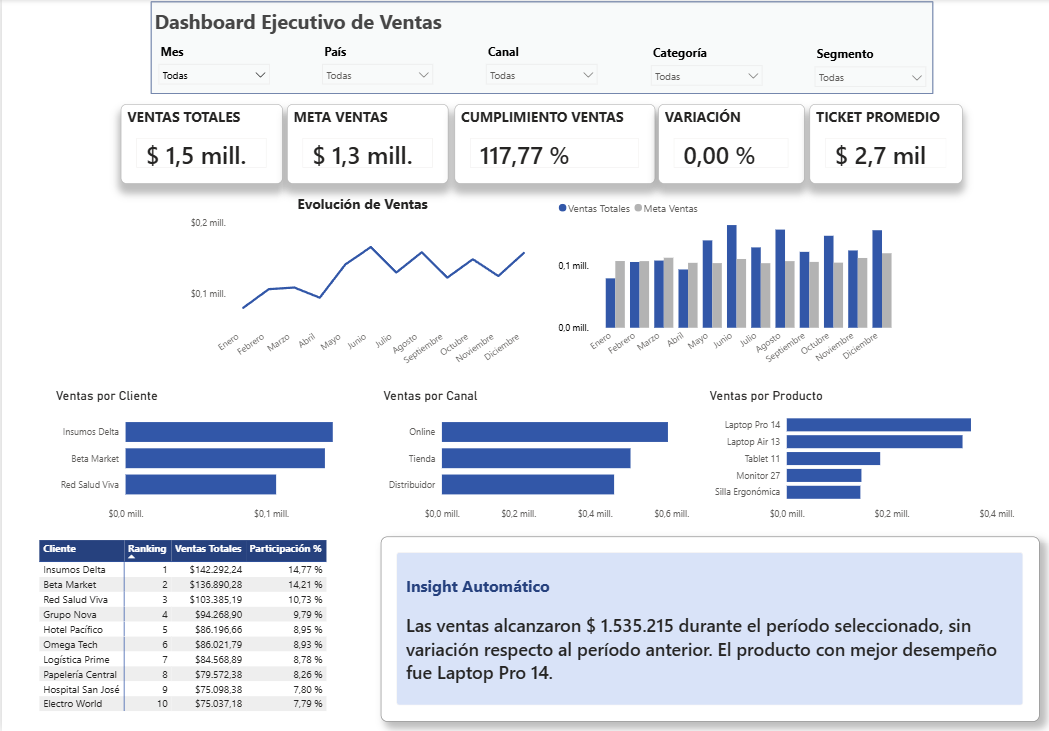

The dashboard page shown, as its layout file describes it:
{"tool":"powerbi","page":{"name":"Página 1","canvas":[1408,985],"ordinal":0},"visuals":[{"type":"shape","box":[199.8,4,1050.8,124.2],"z":0},{"type":"textbox","box":[199.8,6.7,1050.8,53.7],"z":1000},{"type":"slicer","fields":{"Values":["Tabla Calendario.NombreMesLargo"]},"box":[199.8,53,169.9,65.5],"z":1000,"group":"g1"},{"type":"group","id":"g1","title":"Grupo 1","box":[199.8,53,1051.3,70],"z":2000},{"type":"slicer","fields":{"Values":["TblDimClienteDirty.Pais"]},"box":[419.7,53,169,65],"z":2000,"group":"g1"},{"type":"cardVisual","title":"VENTAS TOTALES","fields":{"Data":["Medidas.Ventas_Totales"]},"box":[158.9,141,217.5,107.5],"z":2000,"group":"g2"},{"type":"slicer","fields":{"Values":["TblDimCanalDirty.Canal"]},"box":[640.1,53.7,170.3,66.3],"z":3000,"group":"g1"},{"type":"lineChart","title":"Evolución de Ventas","fields":{"Y":["Medidas.Ventas_Totales"],"Category":["Tabla Calendario.NombreMesLargo"]},"box":[248.8,261.2,471.2,251.2],"z":3000},{"type":"cardVisual","title":"META VENTAS","fields":{"Data":["Medidas.Meta Ventas"]},"box":[382.6,141,217,107],"z":4000,"group":"g2"},{"type":"clusteredColumnChart","title":"Ventas vs Meta","fields":{"Category":["Tabla Calendario.NombreMesLargo"],"Y":["Medidas.Ventas_Totales","Medidas.Meta Ventas"]},"box":[741.2,261,471.2,251.2],"z":4000},{"type":"slicer","fields":{"Values":["TblDimProductoDirty.Categoria"]},"box":[860.5,54.1,170.3,66.3],"z":5000,"group":"g1"},{"type":"barChart","title":"Ventas por Producto","fields":{"Category":["TblDimProductoDirty.Producto"],"Y":["Medidas.Ventas_Totales"]},"box":[945.1,522,419.7,188],"z":5000},{"type":"slicer","fields":{"Values":["TblDimClienteDirty.Segmento"]},"box":[1080.9,56.6,170.3,66.3],"z":6000,"group":"g1"},{"type":"group","id":"g2","title":"Grupo 2","box":[158.9,141,1130.7,107.5],"z":6000},{"type":"cardVisual","title":"CUMPLIMIENTO VENTAS","fields":{"Data":["Medidas.Cumplimiento Meta"]},"box":[606.3,141,269.6,107],"z":6000,"group":"g2"},{"type":"pivotTable","fields":{"Rows":["TblDimClienteDirty.Cliente"],"Values":["Medidas.Ranking Clientes","Medidas.Ventas_Totales","Medidas.Participacion Ventas %"]},"box":[45.3,721.8,446.5,248.4],"z":7000},{"type":"cardVisual","title":"VARIACIÓN","fields":{"Data":["Medidas.Variacion %"]},"box":[881.5,141,196.9,107],"z":8000,"group":"g2"},{"type":"cardVisual","fields":{"Data":["Medidas.Insight Automático"]},"box":[508.6,721.8,884.6,248.4],"z":8000},{"type":"barChart","title":"Ventas por Cliente","fields":{"Category":["TblDimClienteDirty.Cliente"],"Y":["Medidas.Ventas_Totales"]},"box":[67.1,522,421.3,188],"z":9000},{"type":"cardVisual","title":"TICKET PROMEDIO","fields":{"Data":["Medidas.Ticket_Promedio"]},"box":[1084,141,205.6,107],"z":10000,"group":"g2"},{"type":"barChart","title":"Ventas por Canal","fields":{"Y":["Medidas.Ventas_Totales"],"Category":["TblDimCanalDirty.Canal"]},"box":[506.3,522,421,188],"z":10000}]}

Visuals, with their boxes in screenshot pixels (x1, y1, x2, y2), scaled from the page's 1408x985 canvas onto the 1049x731 screenshot:
shape: detection(149, 3, 932, 95)
textbox: detection(149, 5, 932, 45)
slicer - Tabla Calendario.NombreMesLargo: detection(149, 39, 275, 88)
"Grupo 1" group: detection(149, 39, 932, 91)
slicer - TblDimClienteDirty.Pais: detection(313, 39, 439, 88)
"VENTAS TOTALES" cardVisual: detection(118, 105, 280, 184)
slicer - TblDimCanalDirty.Canal: detection(477, 40, 604, 89)
"Evolución de Ventas" lineChart: detection(185, 194, 536, 380)
"META VENTAS" cardVisual: detection(285, 105, 447, 184)
"Ventas vs Meta" clusteredColumnChart: detection(552, 194, 903, 380)
slicer - TblDimProductoDirty.Categoria: detection(641, 40, 768, 89)
"Ventas por Producto" barChart: detection(704, 387, 1017, 527)
slicer - TblDimClienteDirty.Segmento: detection(805, 42, 932, 91)
"Grupo 2" group: detection(118, 105, 961, 184)
"CUMPLIMIENTO VENTAS" cardVisual: detection(452, 105, 653, 184)
pivotTable - TblDimClienteDirty.Cliente x Medidas.Ranking Clientes: detection(34, 536, 366, 720)
"VARIACIÓN" cardVisual: detection(657, 105, 803, 184)
cardVisual - Medidas.Insight Automático: detection(379, 536, 1038, 720)
"Ventas por Cliente" barChart: detection(50, 387, 364, 527)
"TICKET PROMEDIO" cardVisual: detection(808, 105, 961, 184)
"Ventas por Canal" barChart: detection(377, 387, 691, 527)
